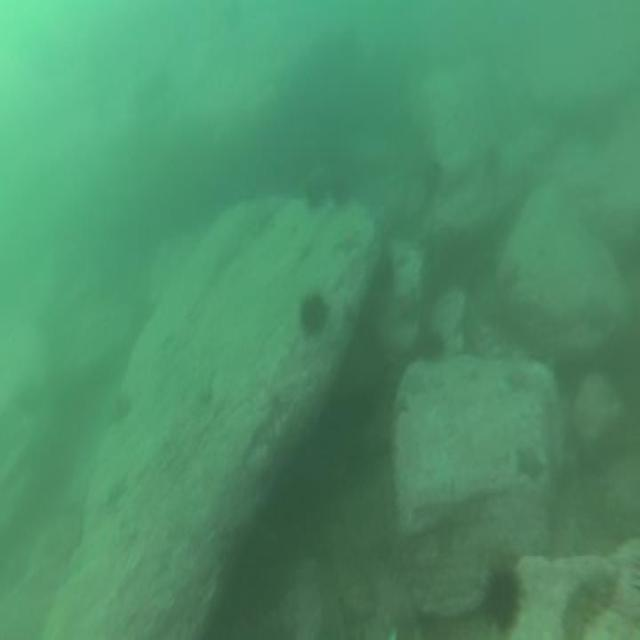echinus: (476, 561, 526, 640), (294, 288, 332, 343), (552, 349, 583, 403), (413, 326, 447, 368), (302, 163, 330, 212), (418, 155, 444, 204), (329, 171, 351, 210)
holothurian: (560, 561, 620, 640)
starfish: (513, 438, 547, 487), (395, 284, 422, 328), (502, 358, 531, 396), (335, 226, 364, 262), (104, 472, 130, 512)
